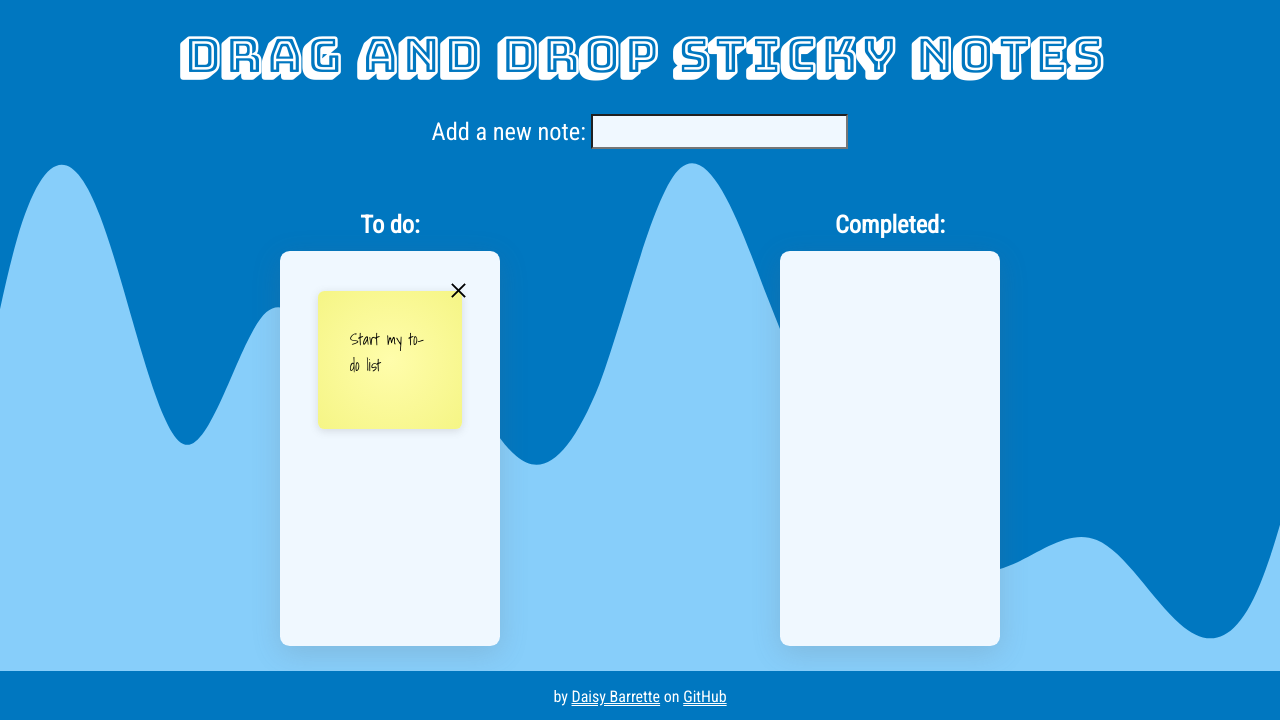
Scenario: allows the user to type a new note
Type "hello world" into the field with test id "newNoteInput".
click(720, 131); type("hello world")  # box 591,114 -> 848,149
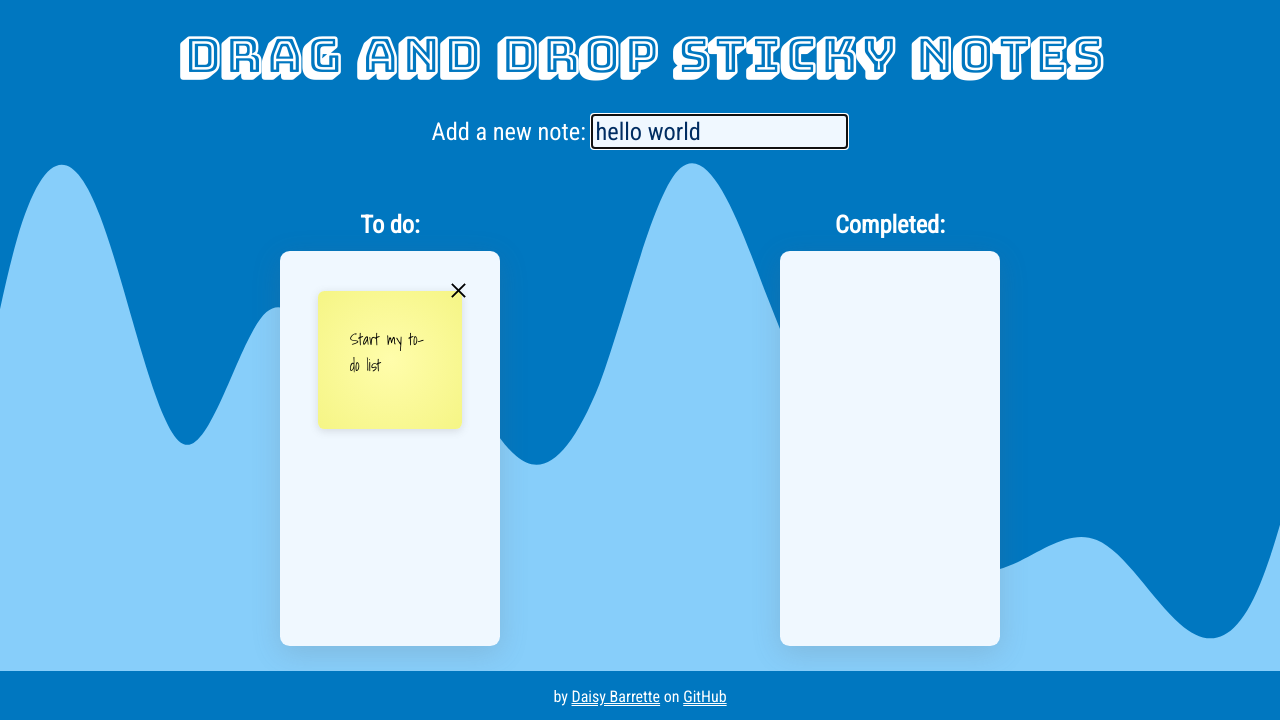
Submit the form with test id "newNoteForm", box 432,114 -> 848,149
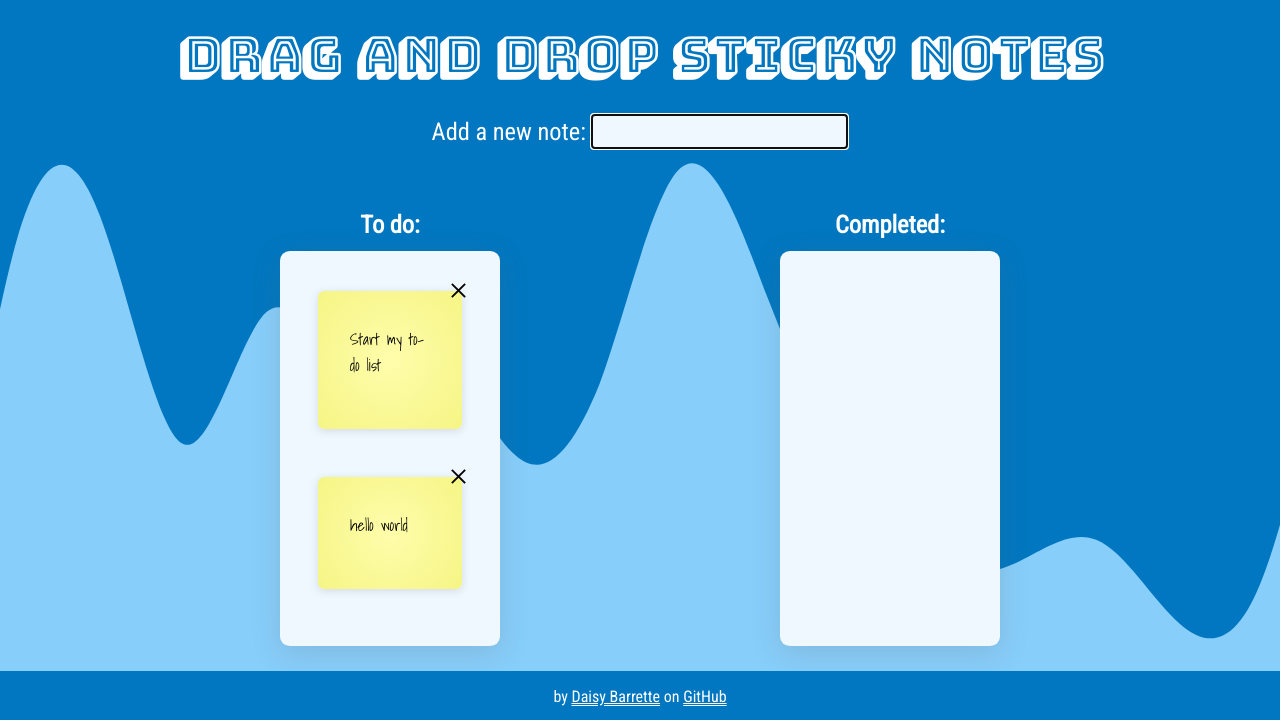
Check: the list item "hello world" is shown, box 308,439 -> 472,599
